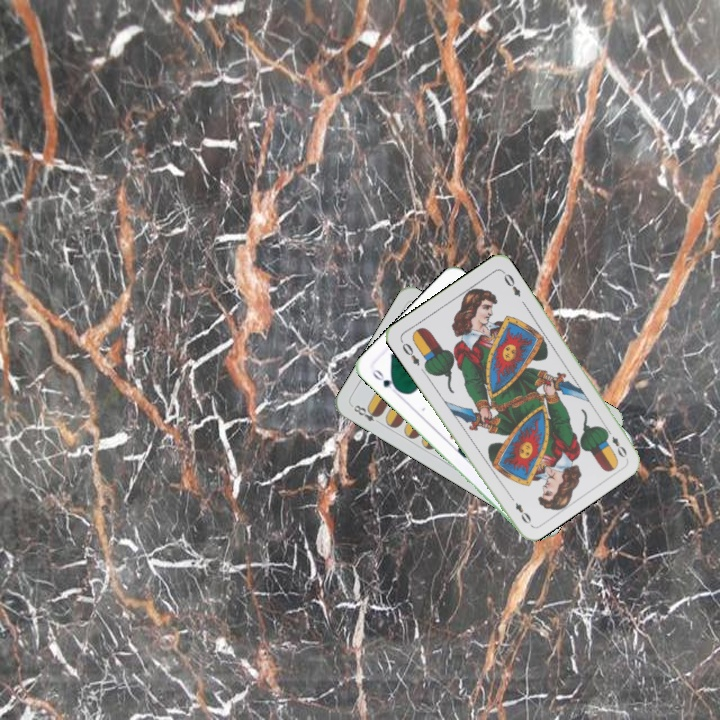E8: (348, 401, 384, 427)
EO: (601, 424, 630, 460), (397, 337, 422, 368)
GO: (368, 365, 403, 394)
